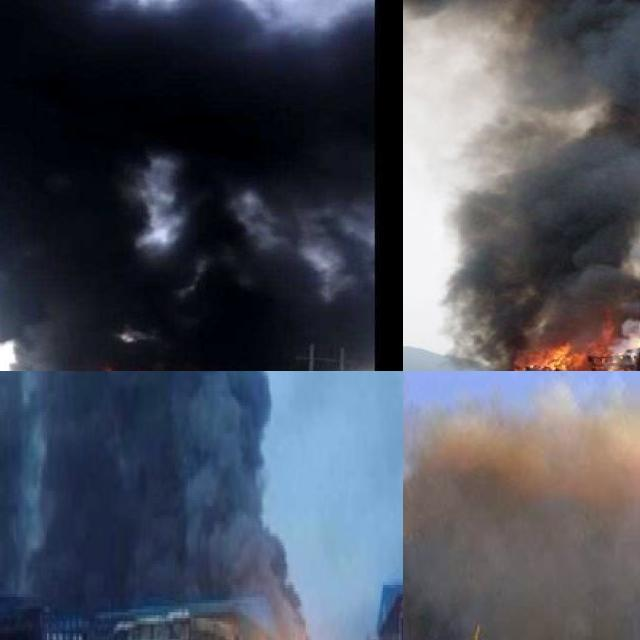fire: (475, 303, 640, 371)
smoke: (0, 0, 368, 371), (403, 0, 640, 366), (0, 371, 287, 606), (403, 371, 640, 640)
